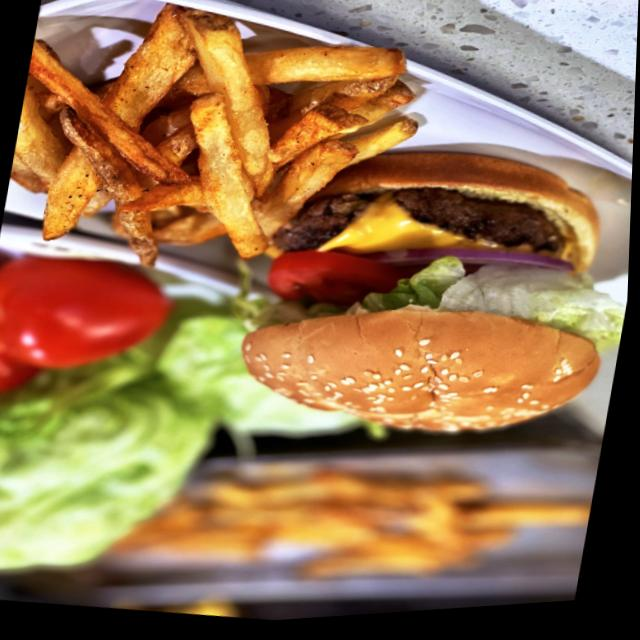burger: (234, 119, 634, 466)
french fries: (0, 0, 438, 310)
